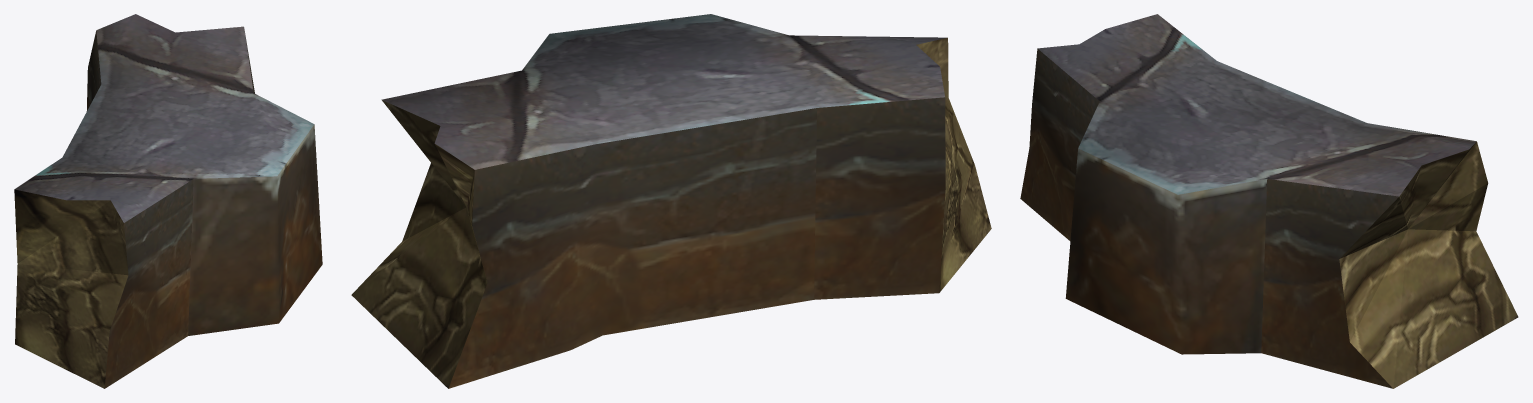
Rendered from D_jitan006.fbx.
3 renders of one model, left to right at view 1: azimuth 30°, elevation 25°; view 2: azimuth 150°, elevation 25°; view 3: azimuth 270°, elevation 25°, orthographic. The views are drawn at different scales.
Visible parts, largest first — view 1: D_jitan006; view 2: D_jitan006; view 3: D_jitan006.
Part boxes in pixels (<box>): D_jitan006: <box>14,14,322,388</box>; D_jitan006: <box>351,14,991,388</box>; D_jitan006: <box>1020,14,1518,388</box>.
Size of the model in its own units: 173 by 77.52 by 188.
